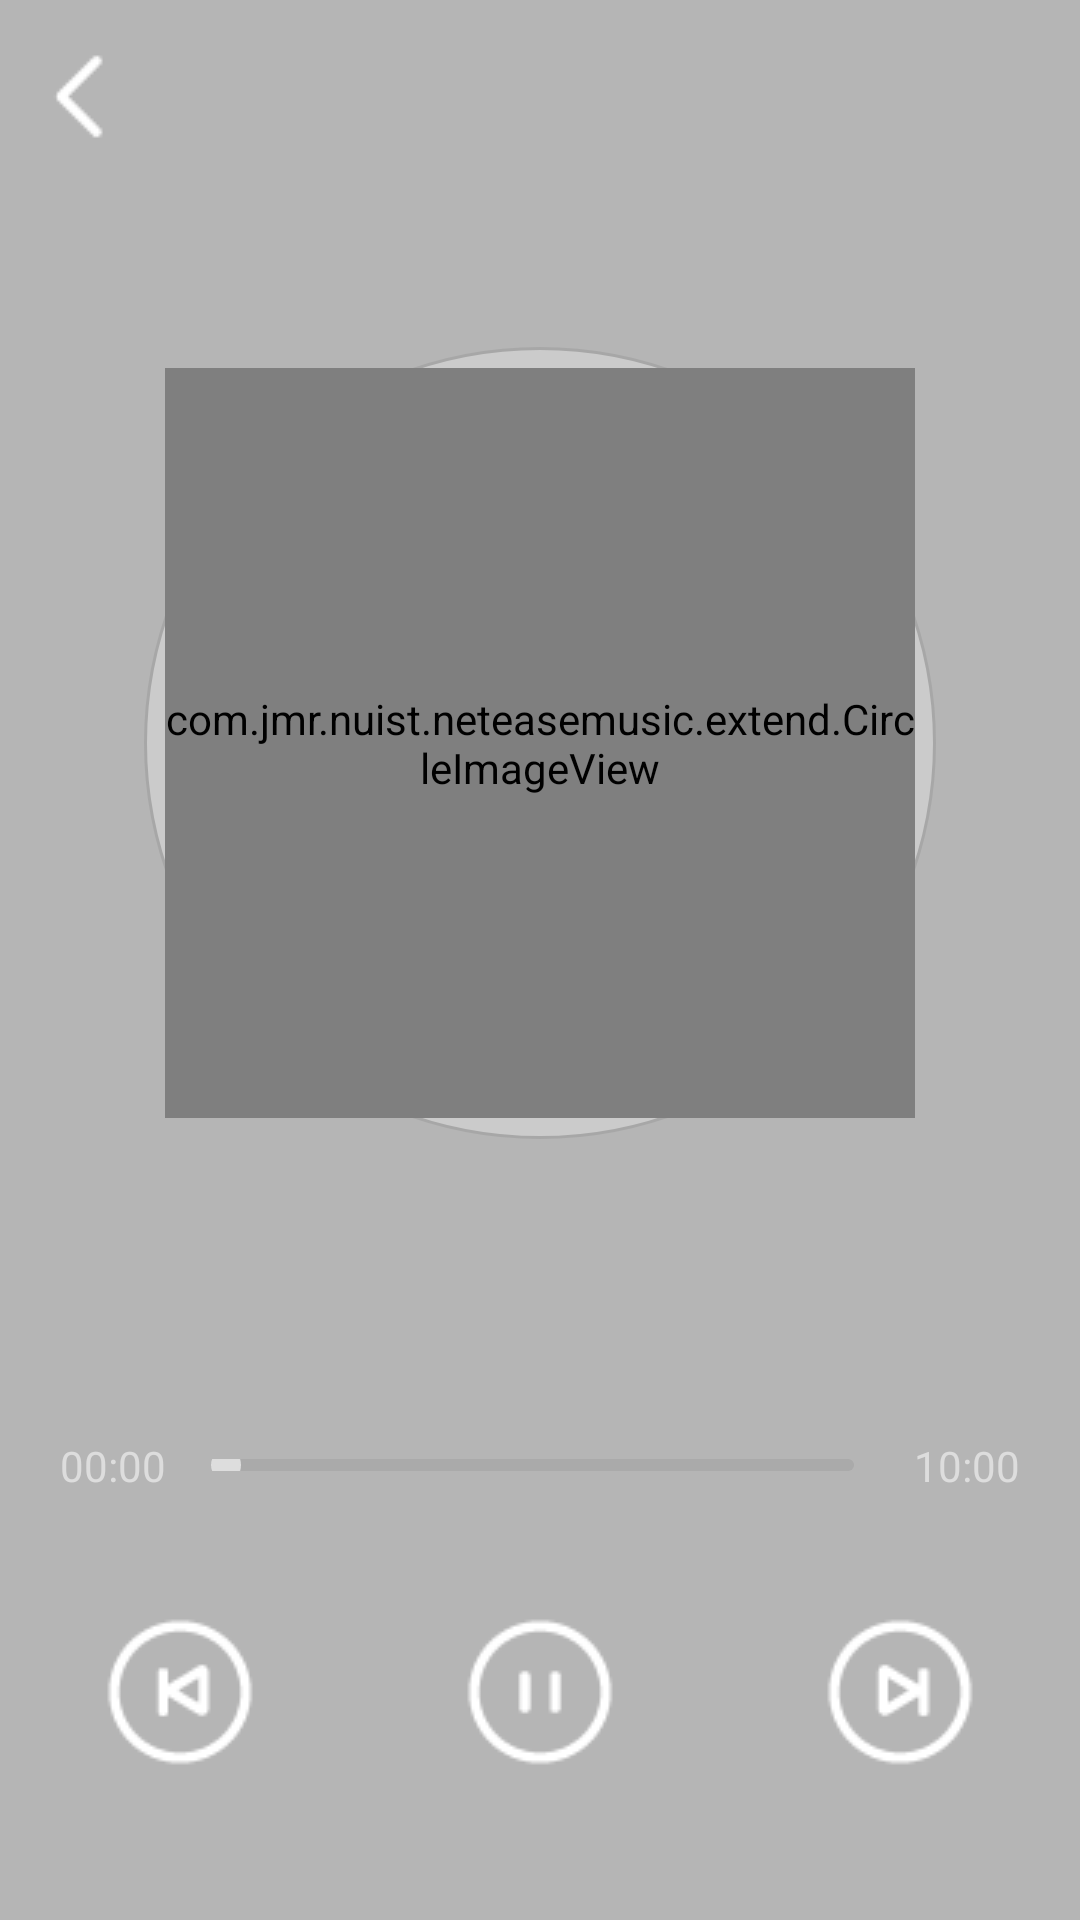

Screen size 1080x1920. Icon name, then its box in pixels as [left=x1, top=y1, right=x2, bottom=y2]:
back: [left=56, top=56, right=102, bottom=137]
nextsong: [left=828, top=1620, right=972, bottom=1764]
previous: [left=108, top=1620, right=252, bottom=1764]
